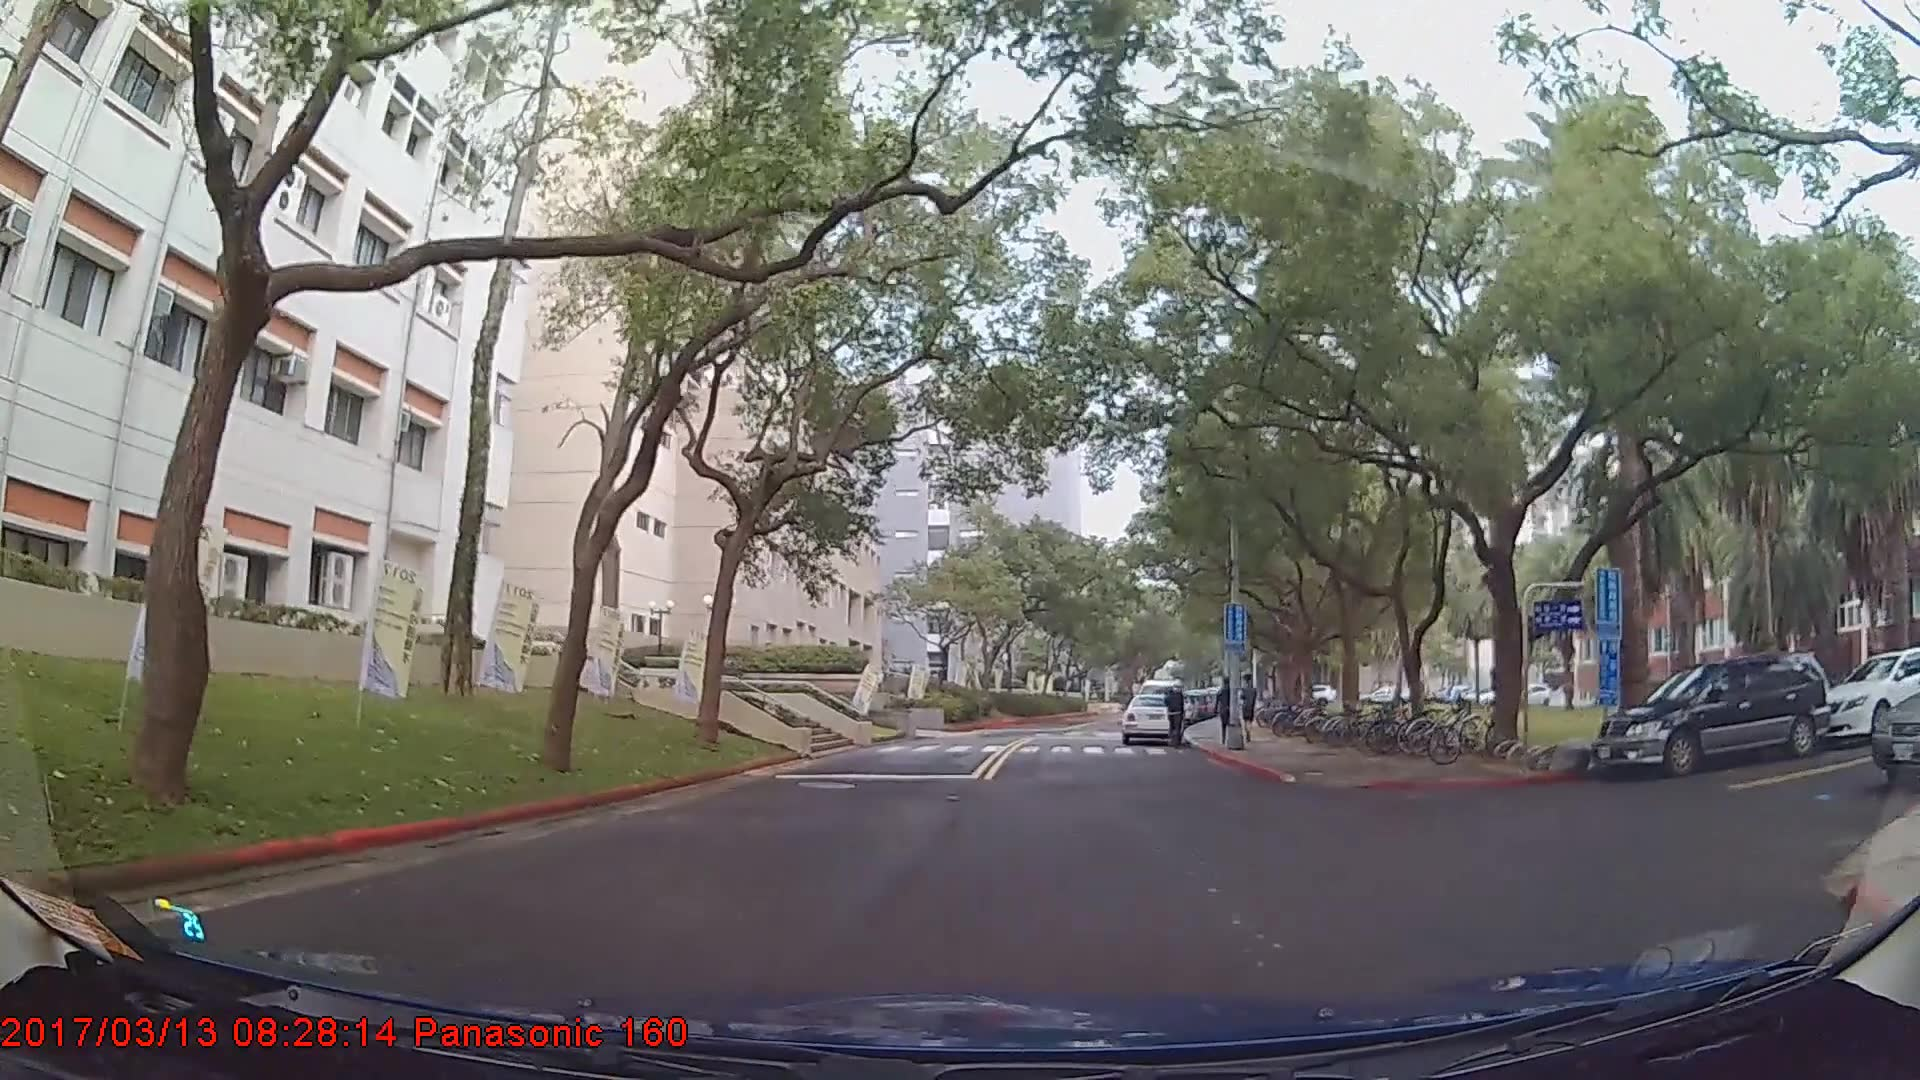pedestrian: (1215, 676, 1239, 746), (1163, 679, 1184, 751)
vehicle: (1592, 649, 1831, 780), (1820, 647, 1920, 742), (1118, 691, 1182, 742)
